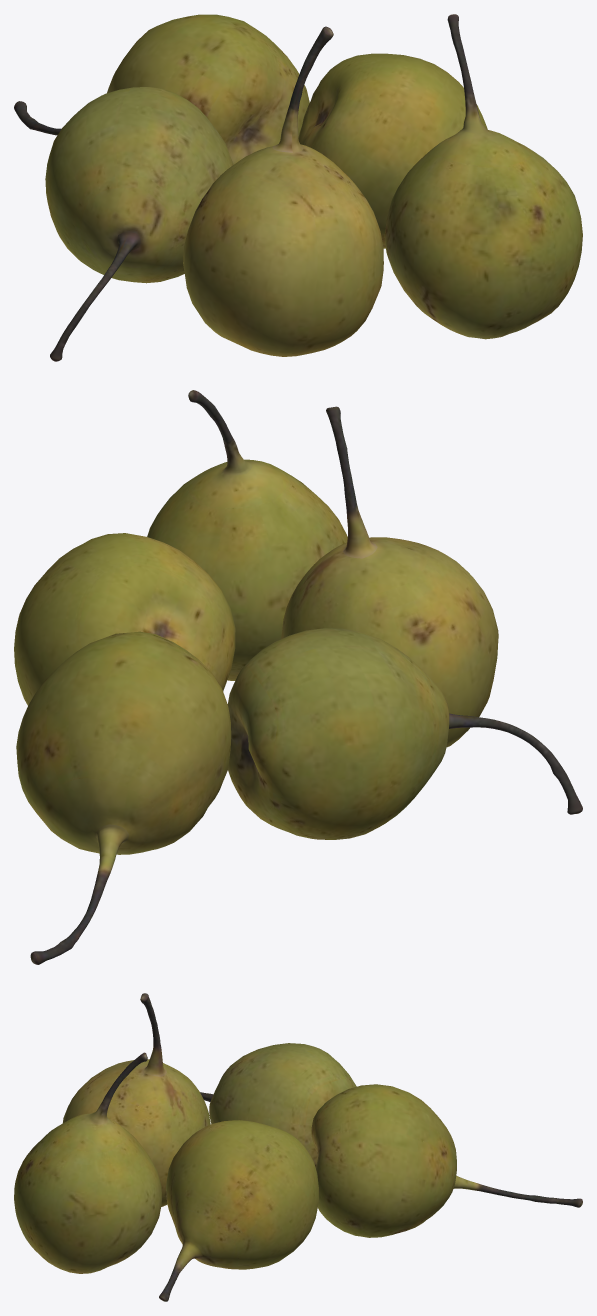
File: food_pears_asian_01.glb
3 renders of one model, top to bottom at view 1: azimuth 30°, elevation 25°; view 2: azimuth 150°, elevation 25°; view 3: azimuth 270°, elevation 25°, orthographic. The views are drawn at different scales.
Visible parts, largest first — view 1: food_pears_asian_01_c, food_pears_asian_01_e, food_pears_asian_01_a, food_pears_asian_01_d, food_pears_asian_01_b; view 2: food_pears_asian_01_b, food_pears_asian_01_a, food_pears_asian_01_c, food_pears_asian_01_e, food_pears_asian_01_d; view 3: food_pears_asian_01_d, food_pears_asian_01_b, food_pears_asian_01_e, food_pears_asian_01_a, food_pears_asian_01_c.
Part boxes in pixels (box(x1,y1,x2,y2)): food_pears_asian_01_c: box(183, 26, 383, 356); food_pears_asian_01_e: box(384, 14, 582, 339); food_pears_asian_01_a: box(45, 87, 233, 361); food_pears_asian_01_d: box(298, 53, 487, 248); food_pears_asian_01_b: box(14, 14, 309, 164); food_pears_asian_01_b: box(16, 631, 231, 964); food_pears_asian_01_a: box(227, 628, 582, 839); food_pears_asian_01_c: box(281, 406, 498, 747); food_pears_asian_01_e: box(147, 390, 347, 680); food_pears_asian_01_d: box(14, 533, 235, 705); food_pears_asian_01_d: box(159, 1120, 318, 1301); food_pears_asian_01_b: box(311, 1084, 582, 1237); food_pears_asian_01_e: box(14, 1052, 161, 1273); food_pears_asian_01_a: box(200, 1043, 356, 1167); food_pears_asian_01_c: box(63, 993, 210, 1206).
Bounding box in the file's own units: 0.1262 × 0.0712 × 0.1669.
1 material, 1 textured.
